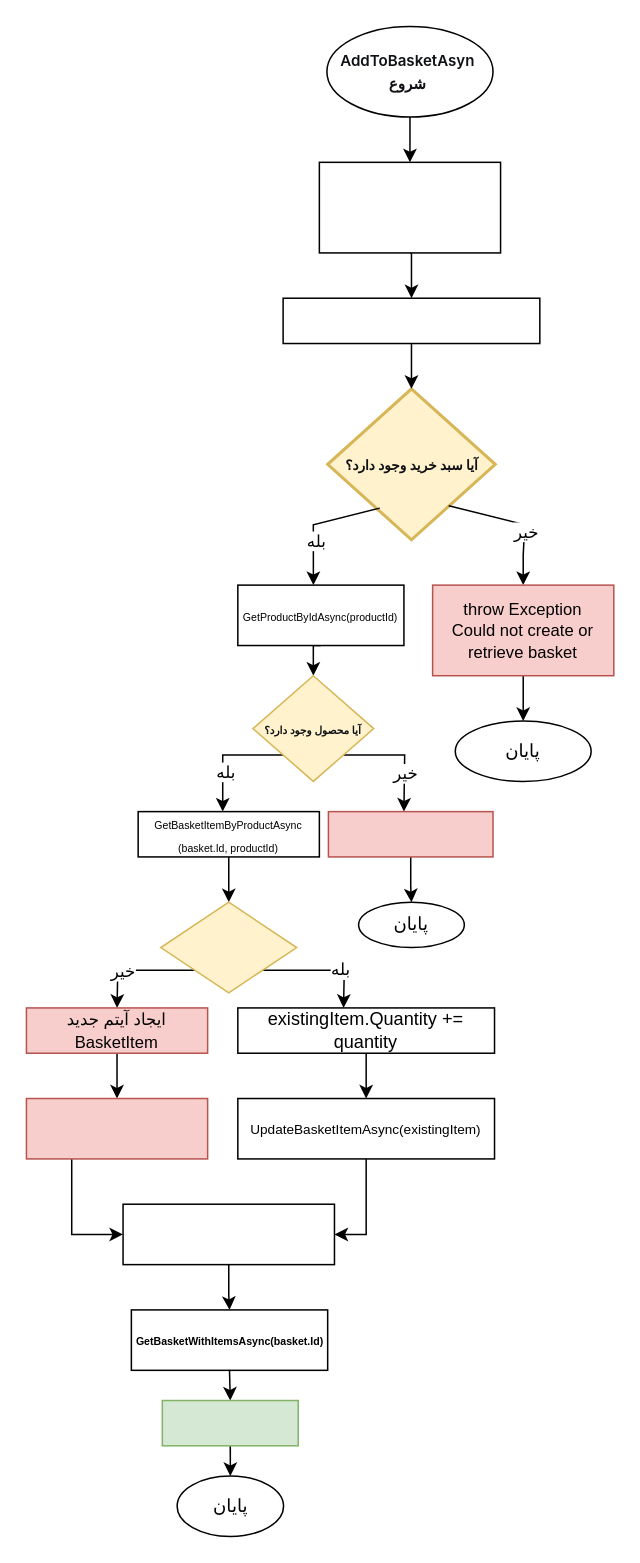
Image size: 640x1563. Some labels were removed from this diagram. Here are the shapes that lost their labels. From the top down, the box of each, then its label:
(318, 161, 501, 253): دریافت ورودی‌ها userId, productId, quantity
(282, 297, 540, 344): GetOrCreateActiveBasketAsync(userId)
(327, 810, 493, 857): throw Exception Product not found
(159, 901, 297, 993): آیا آیتم تکراری وجود دارد؟
(25, 1097, 208, 1159): AddBasketItemAsync(newItem)
(122, 1203, 334, 1265): UpdateBasketTotalPrice(basket.Id)
(161, 1399, 298, 1446): return basket
